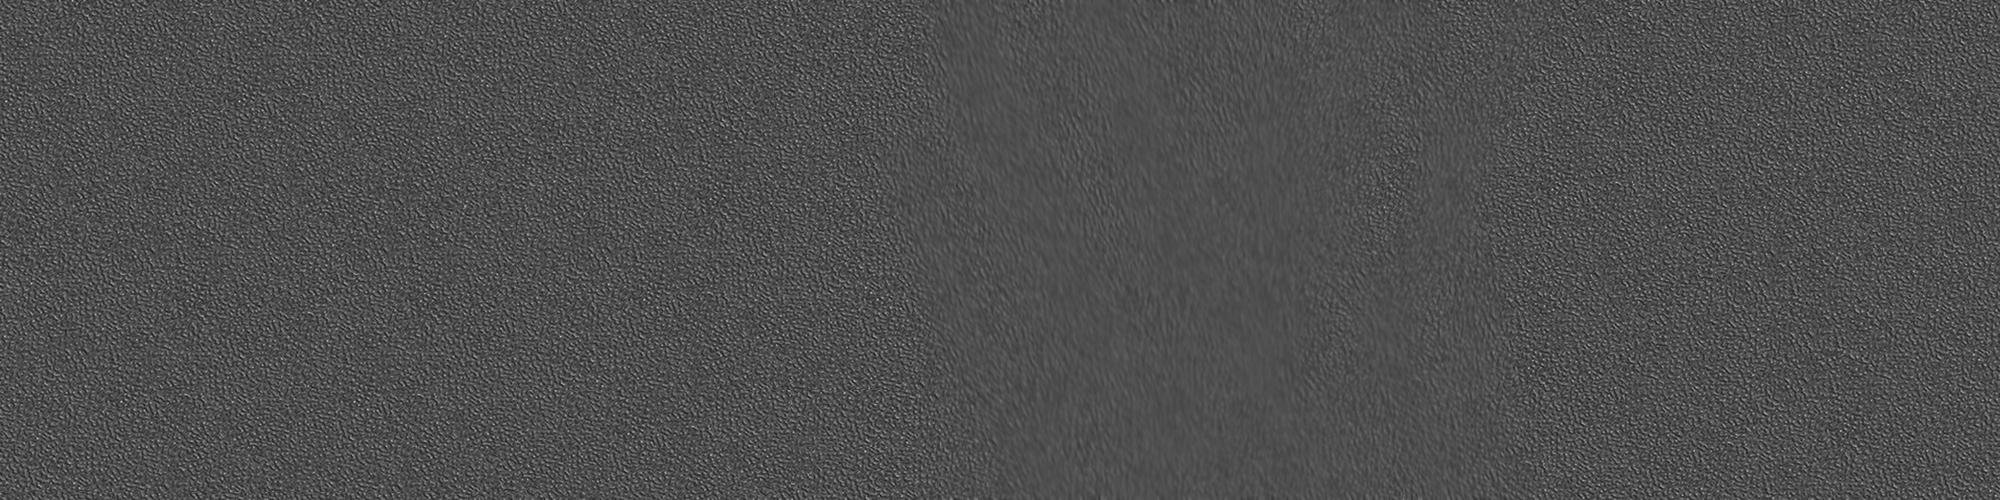Flow_Lines: (904, 15, 1489, 500)
